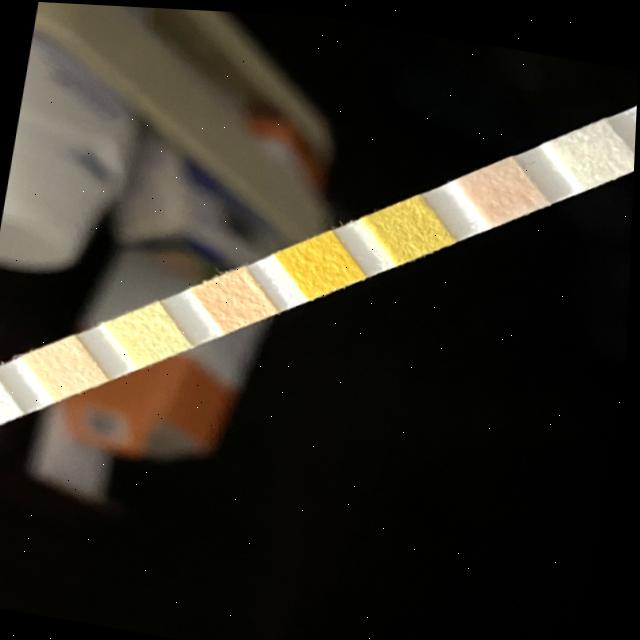Bilirubin: (565, 122, 622, 170)
Blood: (292, 237, 346, 284)
Ketone: (473, 162, 527, 208)
Nitrite: (0, 383, 4, 424)
Protein: (123, 310, 171, 355)
SpGravity: (381, 201, 433, 246)
Urobilinogen: (40, 345, 90, 390)
pH: (207, 275, 260, 320)
